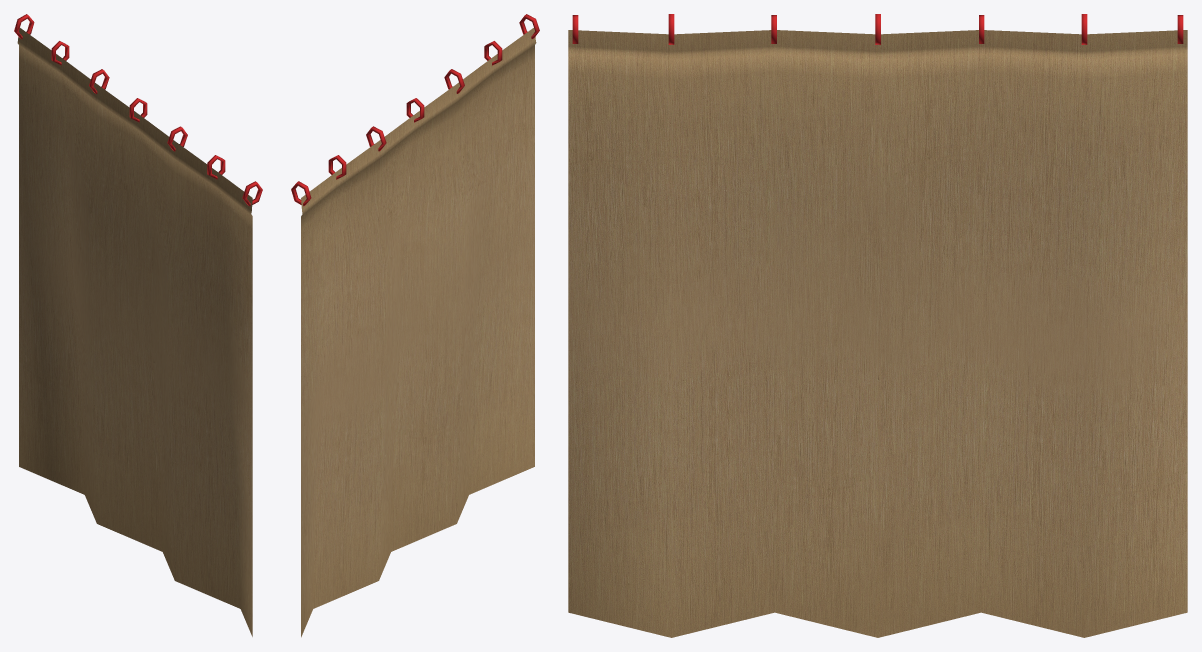
File: MOD_DEC_Curtains_01.fbx
The picture shows the model from 3 angles, left to right: view 1: azimuth 30°, elevation 25°; view 2: azimuth 150°, elevation 25°; view 3: azimuth 270°, elevation 25°; orthographic projection. The views are drawn at different scales.
Visible parts, largest first — view 1: HSHP_MOD_Curtains_01; view 2: HSHP_MOD_Curtains_01; view 3: HSHP_MOD_Curtains_01.
Part boxes in pixels (bbox=[...]): HSHP_MOD_Curtains_01: bbox=[14, 14, 262, 636]; HSHP_MOD_Curtains_01: bbox=[291, 14, 539, 637]; HSHP_MOD_Curtains_01: bbox=[568, 14, 1187, 637].
Size of the model in its own units: 0.088 by 1.15 by 1.06.
